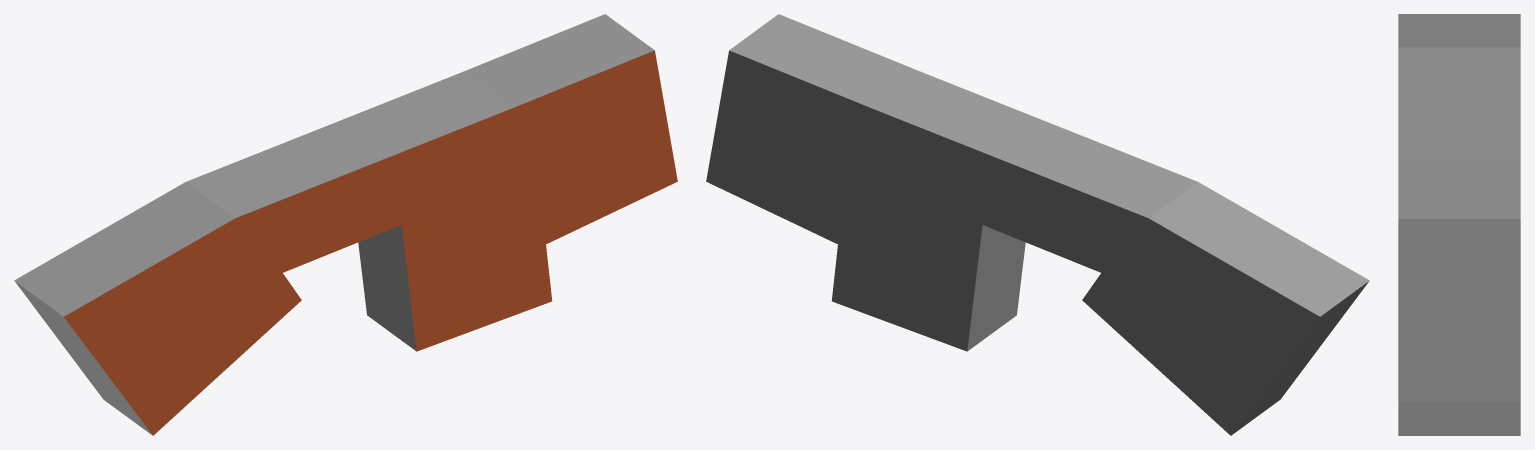
Rendered from construction_5671_assumed_A_Casa_h6m.obj.
3 renders of one model, left to right at view 1: azimuth 30°, elevation 25°; view 2: azimuth 150°, elevation 25°; view 3: azimuth 270°, elevation 25°, orthographic. The views are drawn at different scales.
Parts seen in each view (by area): view 1: construction_5671_assumed_A_Casa; view 2: construction_5671_assumed_A_Casa; view 3: construction_5671_assumed_A_Casa.
Boxes of the visible parts, bbox=[...] form: construction_5671_assumed_A_Casa: bbox=[14, 14, 677, 435]; construction_5671_assumed_A_Casa: bbox=[706, 14, 1369, 435]; construction_5671_assumed_A_Casa: bbox=[1398, 14, 1520, 435].
Bounding box in the file's own units: 42.83 × 17.54 × 6.
